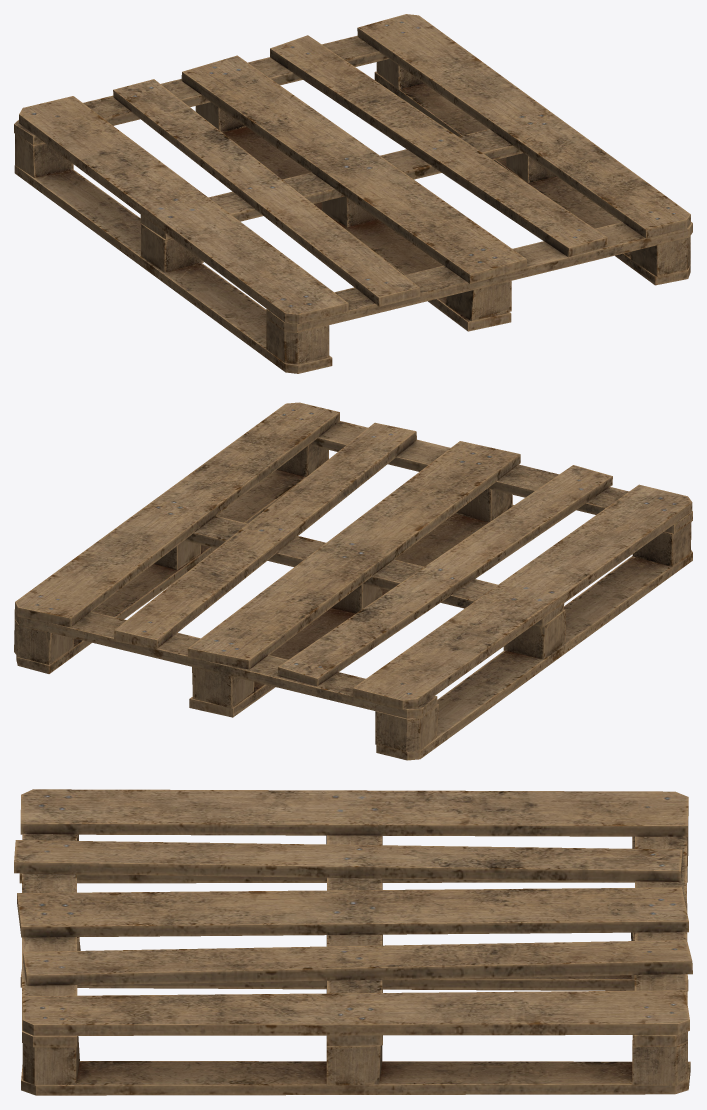
File: wooden_pallet.glb
3 renders of one model, top to bottom at view 1: azimuth 30°, elevation 25°; view 2: azimuth 150°, elevation 25°; view 3: azimuth 270°, elevation 25°, orthographic. The views are drawn at different scales.
Visible parts, largest first — view 1: pallet; view 2: pallet; view 3: pallet.
Part boxes in pixels (left/top/right/bottom): pallet: left=14, top=14, right=692, bottom=373; pallet: left=14, top=402, right=692, bottom=760; pallet: left=14, top=789, right=692, bottom=1095.
Size of the model in its own units: 1.19 by 0.1695 by 1.44.
Materials: 1 (1 with a texture image).
